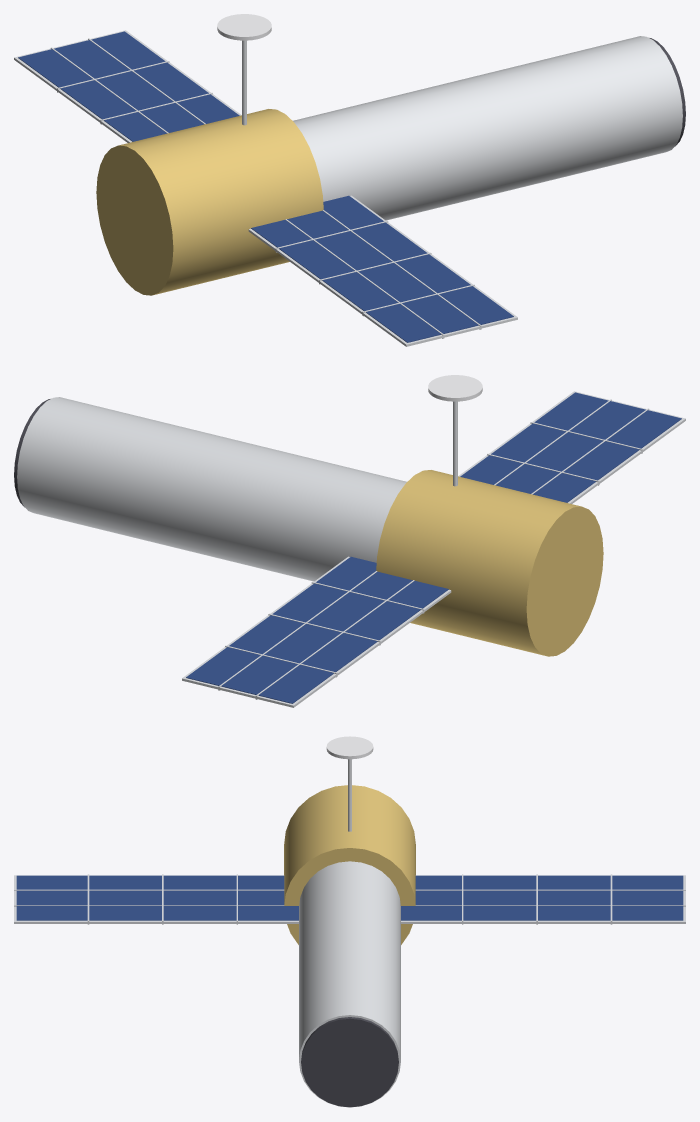
File: science.glb
3 renders of one model, top to bottom at view 1: azimuth 30°, elevation 25°; view 2: azimuth 150°, elevation 25°; view 3: azimuth 270°, elevation 25°, orthographic. The views are drawn at different scales.
Size of the model in its own units: 12.15 by 5.29 by 15.8.
